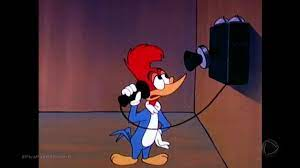picapau: (113, 39, 188, 168)
